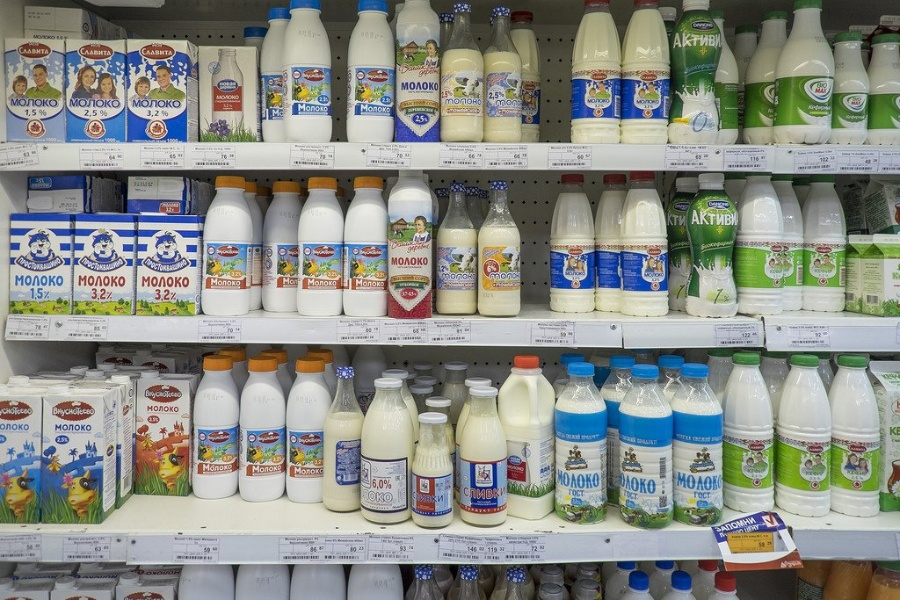milk: (826, 355, 888, 529), (777, 353, 841, 521), (669, 363, 731, 532), (567, 1, 632, 148), (727, 171, 791, 320), (615, 171, 676, 322), (555, 362, 610, 529), (614, 1, 676, 149), (776, 1, 835, 151), (237, 356, 295, 508), (281, 1, 340, 148), (187, 355, 246, 501), (361, 376, 416, 529), (340, 174, 395, 323), (458, 386, 514, 532), (201, 175, 256, 320), (474, 180, 530, 322), (799, 177, 854, 320), (319, 365, 370, 519), (550, 172, 601, 323), (298, 172, 349, 322), (345, 1, 395, 150), (388, 169, 438, 318), (477, 6, 530, 145), (441, 3, 489, 148), (408, 411, 458, 532), (438, 183, 479, 322)
